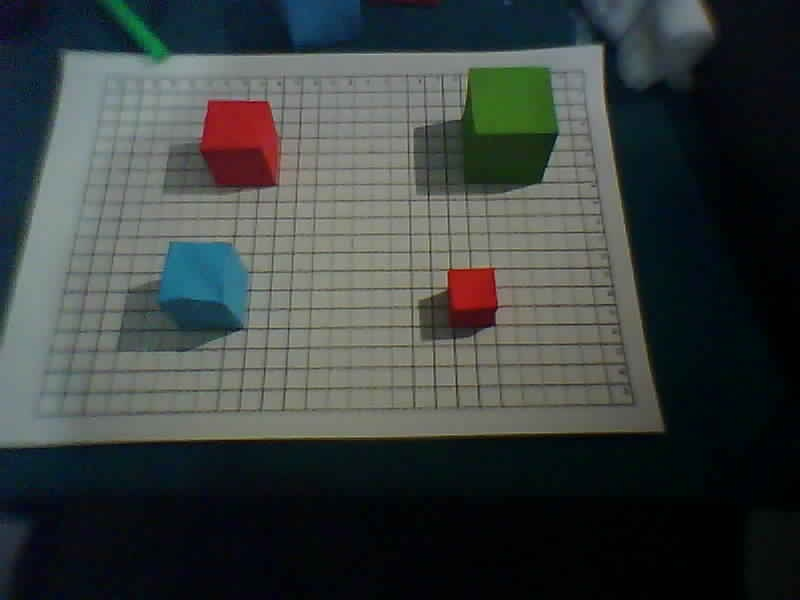LB: (32, 412, 40, 418)
LT: (101, 75, 109, 81)
RB: (630, 403, 638, 409)
RT: (579, 69, 587, 75)
